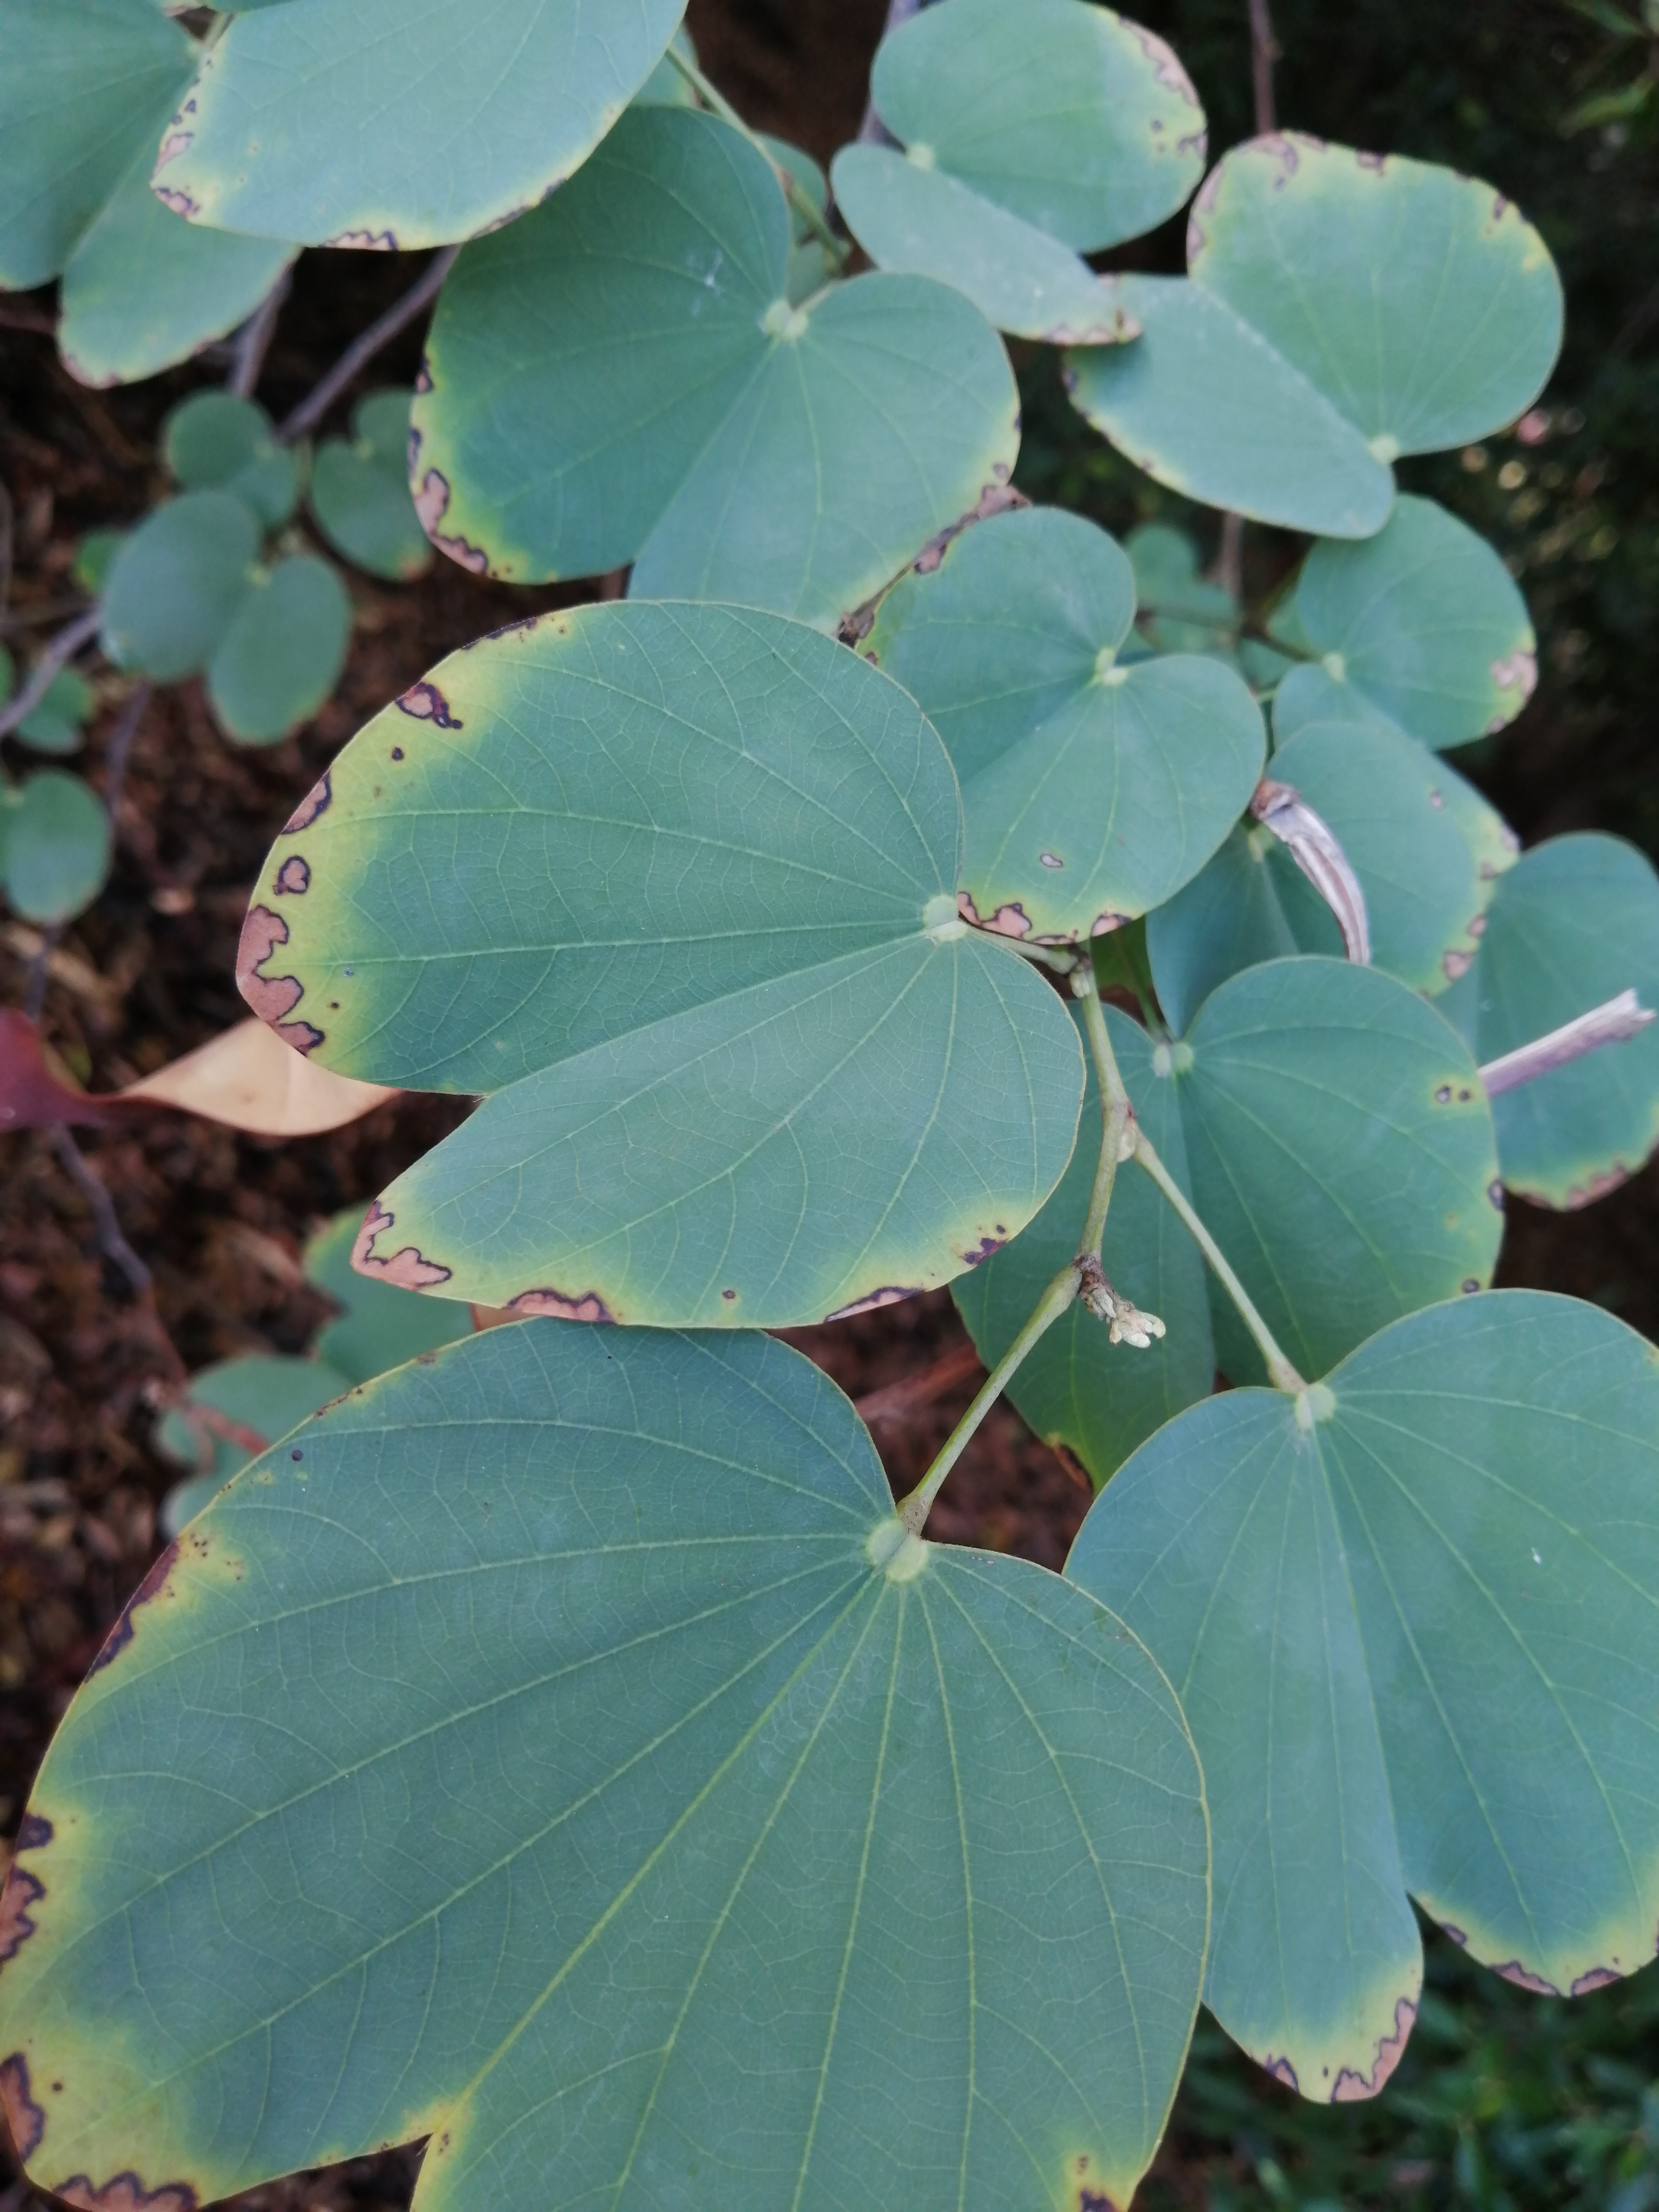nothealthy: (0, 1231, 1403, 2203), (214, 608, 1101, 1374), (1019, 1268, 1659, 2148), (387, 94, 1066, 639), (1033, 118, 1579, 573), (910, 517, 1279, 946), (823, 0, 1230, 350)
